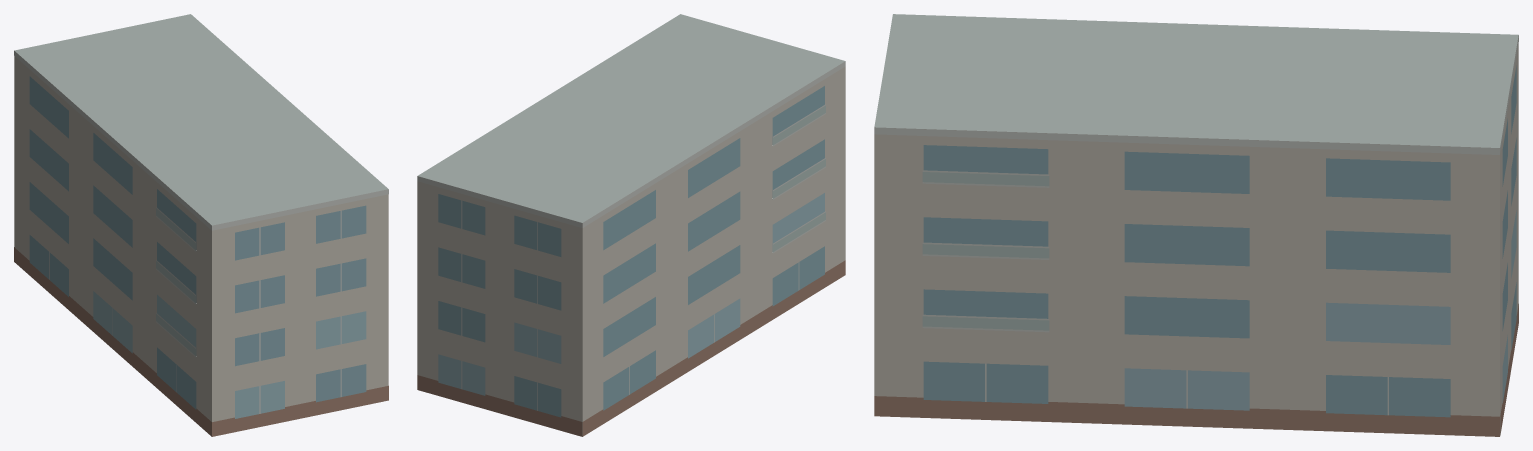
Rendered from survey-upis-32542554.glb.
3 views of the same model, side by side, from view 1: azimuth 30°, elevation 25°; view 2: azimuth 150°, elevation 25°; view 3: azimuth 270°, elevation 25° (orthographic). The views are drawn at different scales.
Parts seen in each view (by area): view 1: survey-upis-32542554.tmp; view 2: survey-upis-32542554.tmp; view 3: survey-upis-32542554.tmp.
Boxes of the visible parts, left/top/right/bottom form: survey-upis-32542554.tmp: left=14, top=14, right=388, bottom=436; survey-upis-32542554.tmp: left=417, top=14, right=845, bottom=436; survey-upis-32542554.tmp: left=874, top=14, right=1518, bottom=436.
Size of the model in its own units: 10.02 by 10.05 by 20.34.
